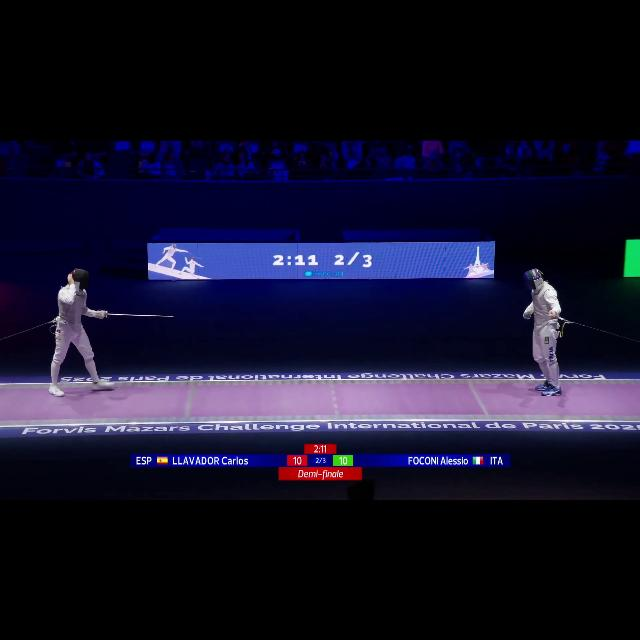blade: (100, 310, 184, 324), (522, 313, 564, 321)
